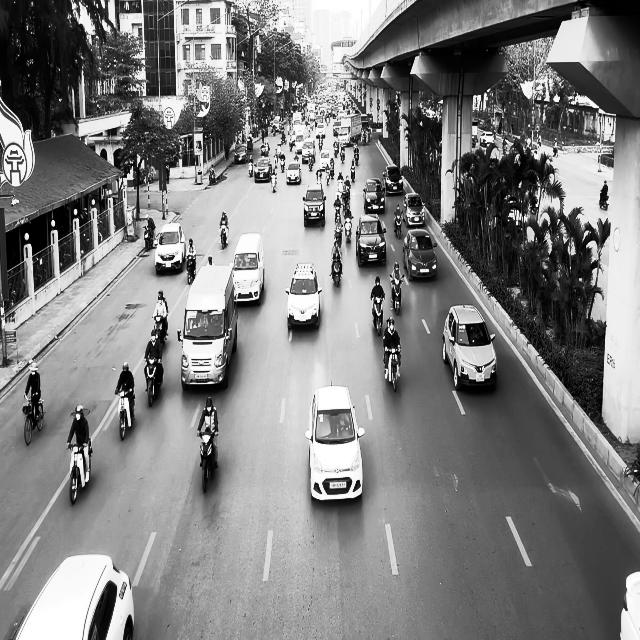car: (15, 554, 134, 640), (305, 381, 365, 502), (442, 304, 497, 391), (230, 232, 265, 305), (285, 262, 322, 329), (403, 228, 438, 280), (355, 214, 387, 267), (155, 222, 185, 274), (620, 570, 640, 639), (302, 183, 326, 228), (403, 192, 425, 228), (363, 178, 385, 214), (382, 165, 403, 194), (286, 161, 302, 184), (234, 144, 248, 163)
motorbike: (67, 438, 92, 504), (197, 429, 219, 493), (22, 394, 44, 446), (115, 387, 135, 440), (383, 335, 401, 392), (144, 356, 162, 407), (389, 273, 404, 315), (370, 293, 384, 336), (152, 314, 166, 346), (330, 256, 342, 287), (143, 224, 155, 250), (186, 256, 196, 285), (218, 223, 228, 249), (393, 212, 402, 238), (600, 192, 608, 210), (208, 170, 216, 186)
truck: (177, 264, 238, 390)
